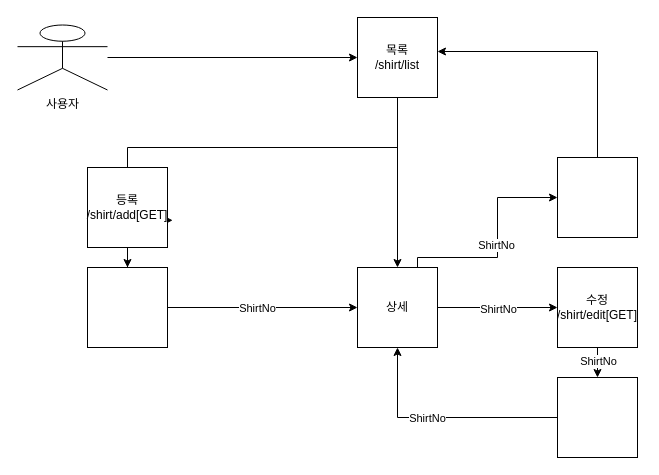
Image size: 659x475. Some labels were removed from this diagram. The shapes that lost their labels are listed below. From the top down, each one's centre as x and y in pixels, then its label:
At [597,197]: "삭제 /shirt/delete".
At [127,307]: "등록 /shirt/add[POST]".
At [597,417]: "수정 /shirt/edit[POST]".
